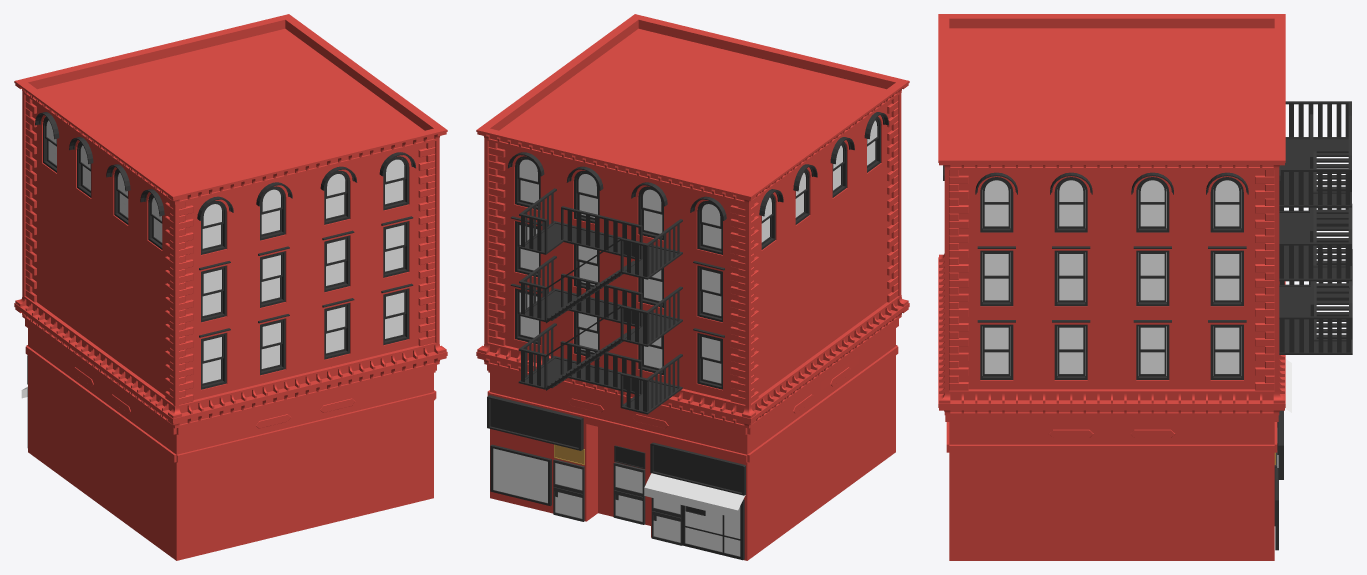
Rendered from Jonas_Apt.fbx.
The picture shows the model from 3 angles, left to right: view 1: azimuth 30°, elevation 25°; view 2: azimuth 150°, elevation 25°; view 3: azimuth 270°, elevation 25°; orthographic projection. The views are drawn at different scales.
Parts seen in each view (by area): view 1: Metal_Panel_F1, BrickWall_Window_V2.R.061, BrickWall_Window_V2.R.062, BrickWall_Window_V1.017, BrickWall_Window_V1.018, BrickWall_Window_V1.023, BrickWall_Window_V1.024, BrickWall_Window_V2.012, BrickWall_Window_V2.013, BrickWall_Window_V1_L..011, BrickWall_Window_V1_L..008, BrickWall_Window_V2._L.006 (+27 smaller); view 2: BrickWall_Window_V2.R.061, Metal_Panel_F1, Emergency_Stairs, BrickWall_Window_V2.R.062, BrickWall_Window_V2.009, BrickWall_Window_V2.008, BrickWall_Window_V1_L..009, BrickWall_Window_V1_L..003, BrickWall_Window_V2._L.004, Store_Sign_Long, BrickWall_Window_V2.R.005, Bakery_Sign (+37 smaller); view 3: BrickWall_Window_V2.R.061, Metal_Panel_F1, Emergency_Stairs, BrickWall_Window_V2.R.062, BrickWall_Window_V1.021, BrickWall_Window_V1.022, BrickWall_Window_V1.014, BrickWall_Window_V1.015, BrickWall_Window_V2.010, BrickWall_Window_V2.011, BrickWall_Window_V1_L..010, BrickWall_Window_V1_R.011 (+12 smaller).
Boxes of the visible parts, x1,y1,x2,y2 form: Metal_Panel_F1: [25, 319, 436, 560]; BrickWall_Window_V2.R.061: [14, 14, 447, 204]; BrickWall_Window_V2.R.062: [14, 295, 447, 428]; BrickWall_Window_V1.017: [241, 238, 305, 321]; BrickWall_Window_V1.018: [305, 222, 369, 305]; BrickWall_Window_V1.023: [241, 305, 305, 388]; BrickWall_Window_V1.024: [305, 290, 369, 372]; BrickWall_Window_V2.012: [241, 173, 305, 253]; BrickWall_Window_V2.013: [305, 157, 369, 237]; BrickWall_Window_V1_L..011: [369, 277, 426, 356]; BrickWall_Window_V1_L..008: [369, 210, 426, 289]; BrickWall_Window_V2._L.006: [369, 143, 426, 222]; BrickWall_Window_V2.R.061: [476, 14, 909, 204]; Metal_Panel_F1: [487, 319, 898, 560]; Emergency_Stairs: [518, 188, 682, 414]; BrickWall_Window_V2.R.062: [476, 295, 909, 428]; BrickWall_Window_V2.009: [618, 173, 682, 252]; BrickWall_Window_V2.008: [554, 157, 618, 236]; BrickWall_Window_V1_L..009: [683, 321, 738, 400]; BrickWall_Window_V1_L..003: [683, 254, 738, 332]; BrickWall_Window_V2._L.004: [683, 188, 738, 265]; Store_Sign_Long: [487, 395, 583, 450]; BrickWall_Window_V2.R.005: [497, 143, 554, 221]; Bakery_Sign: [650, 442, 745, 495]; BrickWall_Window_V2.R.061: [938, 14, 1285, 169]; Metal_Panel_F1: [945, 415, 1278, 560]; Emergency_Stairs: [1279, 101, 1352, 354]; BrickWall_Window_V2.R.062: [938, 253, 1285, 415]; BrickWall_Window_V1.021: [1030, 315, 1111, 389]; BrickWall_Window_V1.022: [1112, 315, 1193, 389]; BrickWall_Window_V1.014: [1030, 242, 1111, 315]; BrickWall_Window_V1.015: [1112, 242, 1193, 315]; BrickWall_Window_V2.010: [1030, 170, 1111, 241]; BrickWall_Window_V2.011: [1112, 170, 1193, 241]; BrickWall_Window_V1_L..010: [1193, 315, 1264, 389]; BrickWall_Window_V1_R.011: [959, 315, 1030, 389].
Bounding box in the file's own units: 853 × 1097 × 1017.
